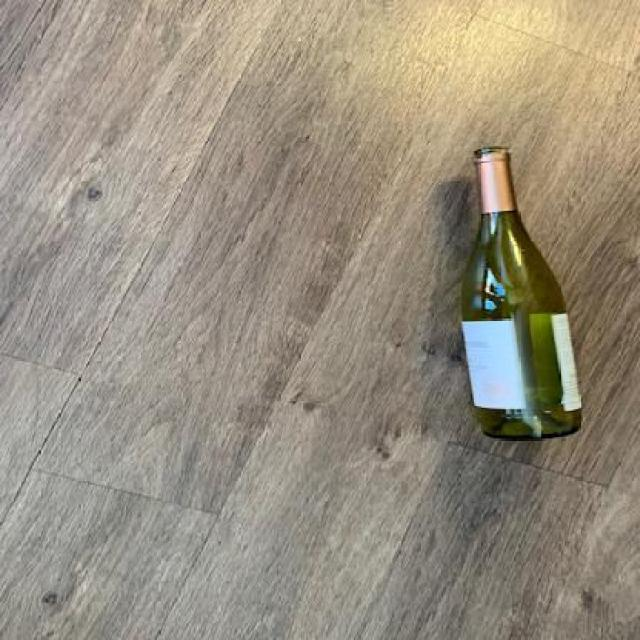trash: (457, 142, 588, 442)
